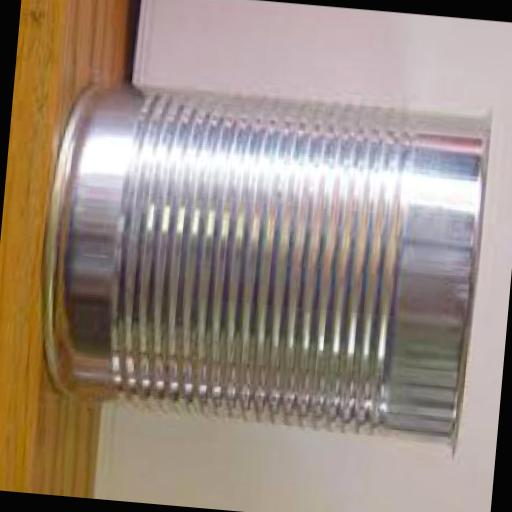metal: (33, 71, 494, 452)
